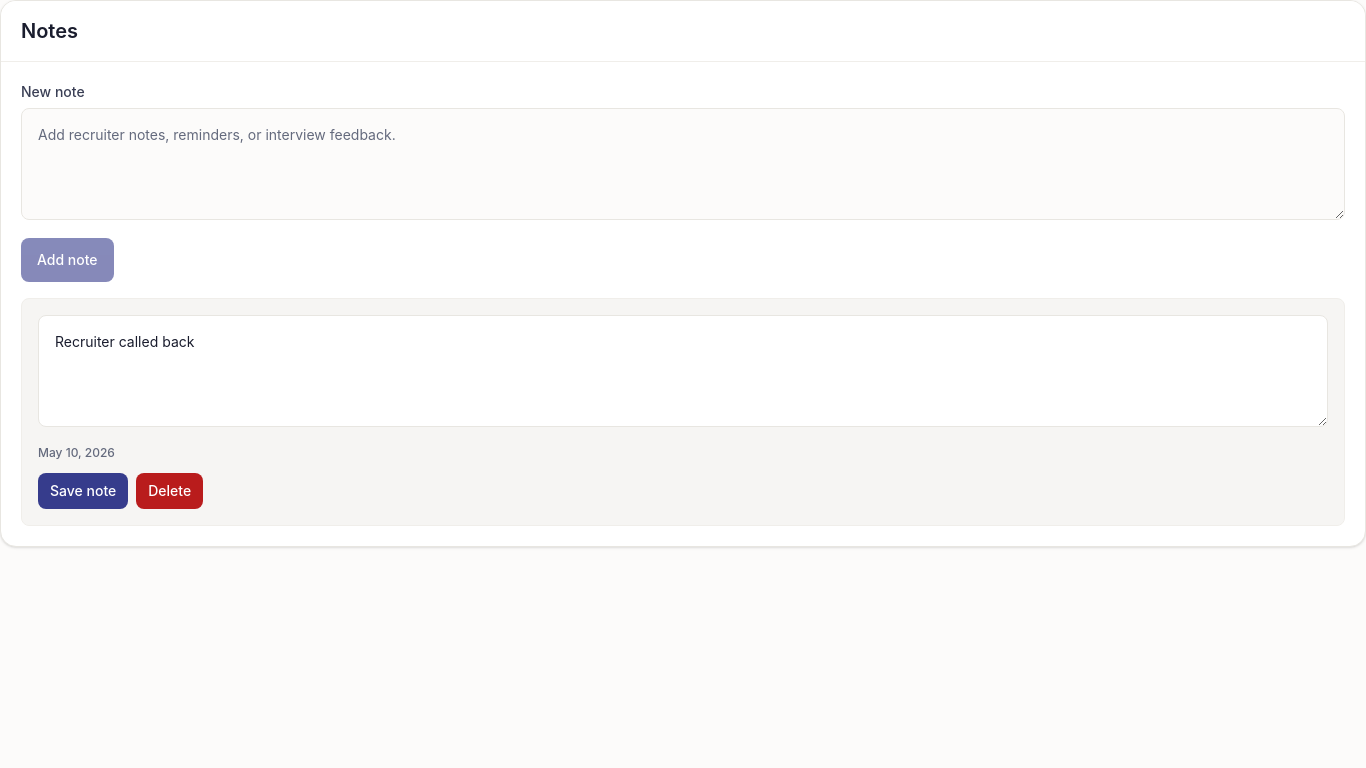
JobDetailNotesPanel › renders a mutation failure from a failed save without losing the loaded notes
Click the button with aria-label "Save note from May 10, 2026": (83, 491) [38, 473, 128, 509]
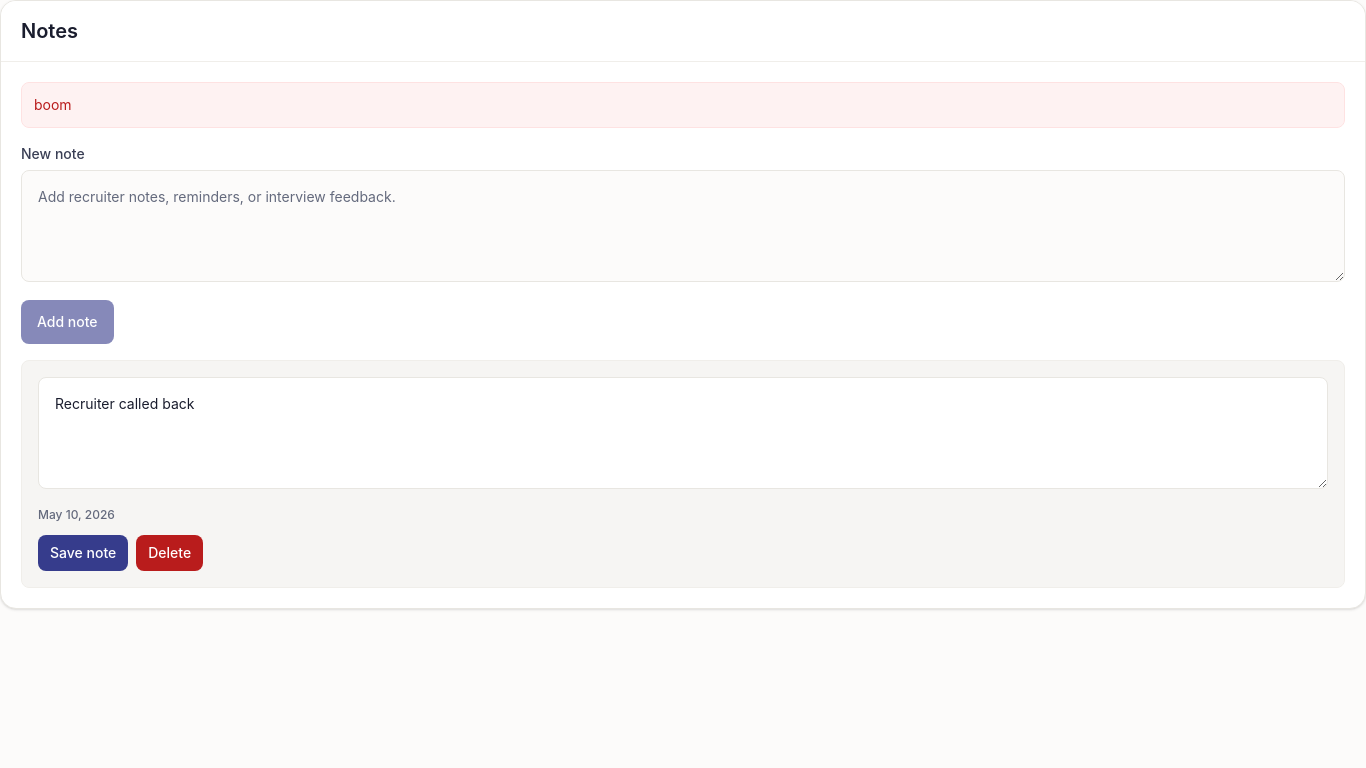
Expected: the text box "Recruiter called back" is shown, [38, 377, 1328, 489]
Result: the message "boom" is shown at [21, 82, 1345, 128]
